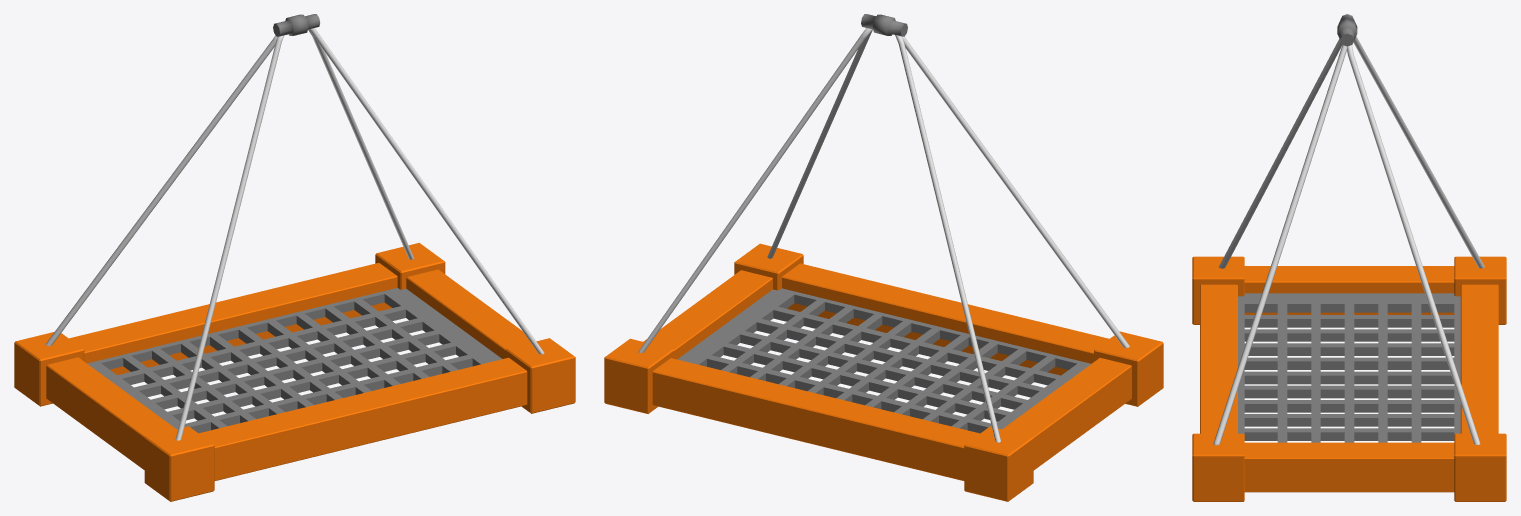
Rendered from HangingPlatformYellow.fbx.
3 renders of one model, left to right at view 1: azimuth 30°, elevation 25°; view 2: azimuth 150°, elevation 25°; view 3: azimuth 270°, elevation 25°, orthographic.
Visible parts, largest first — view 1: Cube.003, Grate, Cylinder, HangingPlatform; view 2: Cube.003, Grate, Cylinder, HangingPlatform; view 3: Cube.003, Grate, Cylinder, HangingPlatform.
Boxes of the visible parts, x1=… form: Cube.003: x1=14, y1=242, x2=575, y2=501; Grate: x1=87, y1=288, x2=502, y2=433; Cylinder: x1=45, y1=28, x2=544, y2=440; HangingPlatform: x1=273, y1=14, x2=320, y2=36; Cube.003: x1=604, y1=243, x2=1163, y2=501; Grate: x1=677, y1=288, x2=1090, y2=433; Cylinder: x1=638, y1=28, x2=1129, y2=442; HangingPlatform: x1=861, y1=14, x2=907, y2=36; Cube.003: x1=1192, y1=256, x2=1506, y2=501; Grate: x1=1238, y1=293, x2=1460, y2=442; Cylinder: x1=1213, y1=36, x2=1484, y2=445; HangingPlatform: x1=1337, y1=14, x2=1357, y2=46.
Bounding box in the file's own units: 5.62 × 5.03 × 3.75.
